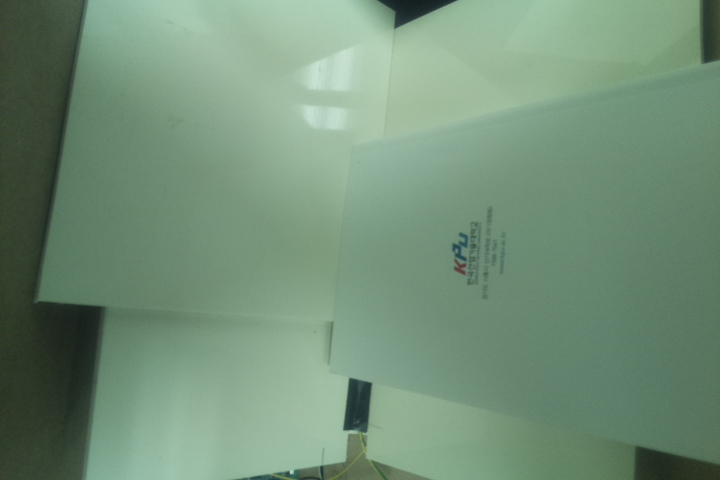book: (324, 56, 720, 468)
